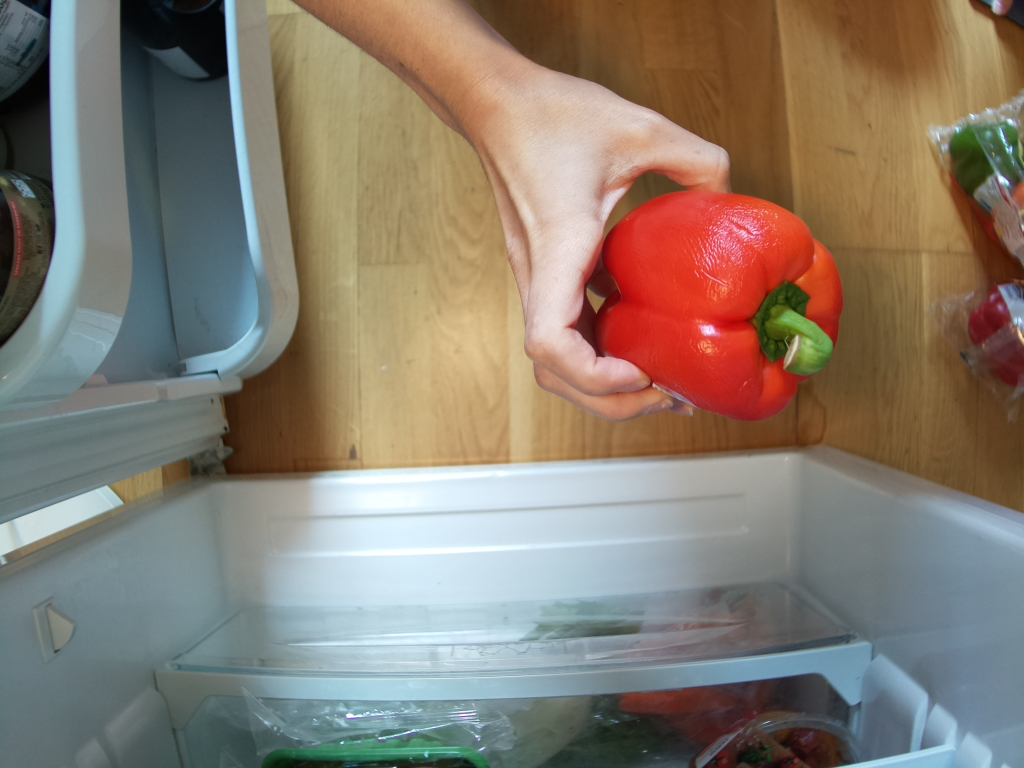pepper-bad: (590, 181, 852, 416)
